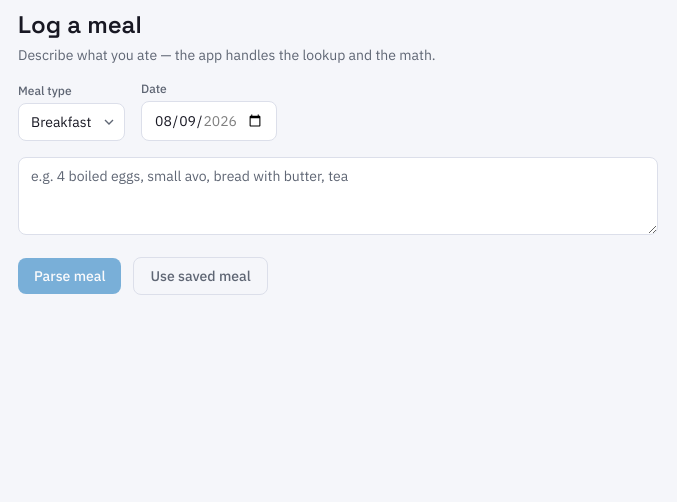
it: Confirm & log disabled state › becomes enabled after removing the only clarification
This screenshot has width=677, height=502.
Type "150g oatmeal, 50g milk" into the text box at {"x": 338, "y": 196}, box x1=18 y1=157 x2=658 y2=235
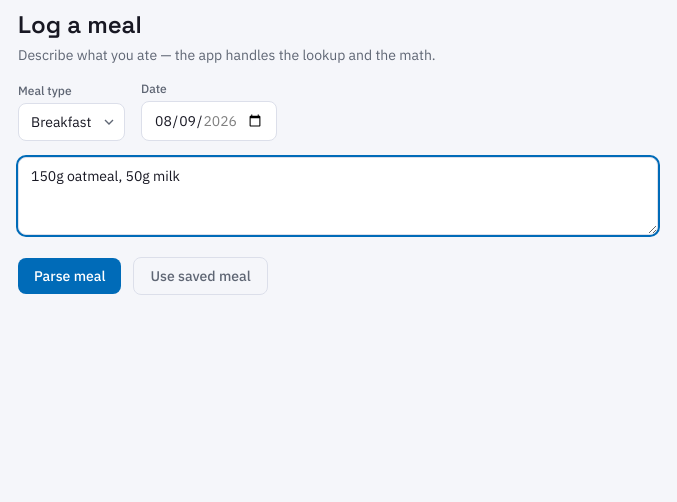
Click the button "Parse meal" at {"x": 70, "y": 276}, box x1=18 y1=258 x2=122 y2=294
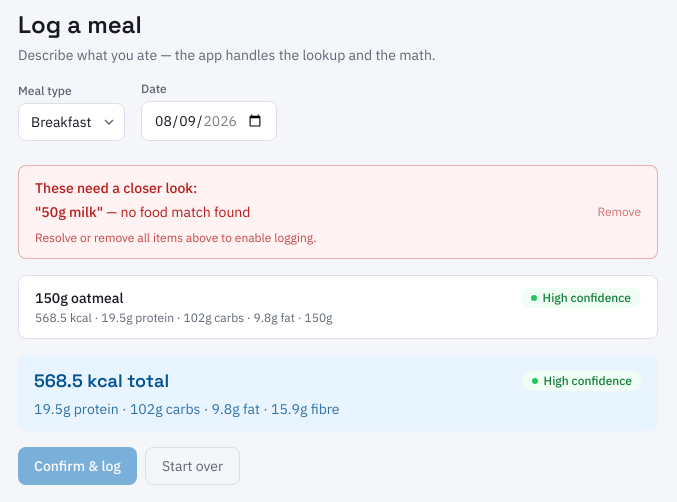
Expected: the button "Confirm & log" is shown, x1=18 y1=447 x2=137 y2=485
Click the button with aria-label "remove 50g milk" at {"x": 619, "y": 212}, box x1=597 y1=204 x2=641 y2=220
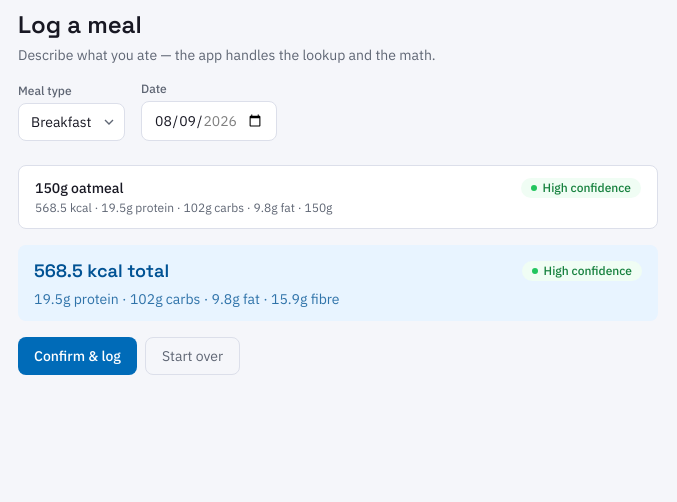
Expected: the button "Confirm & log" is enabled, x1=18 y1=337 x2=137 y2=375
